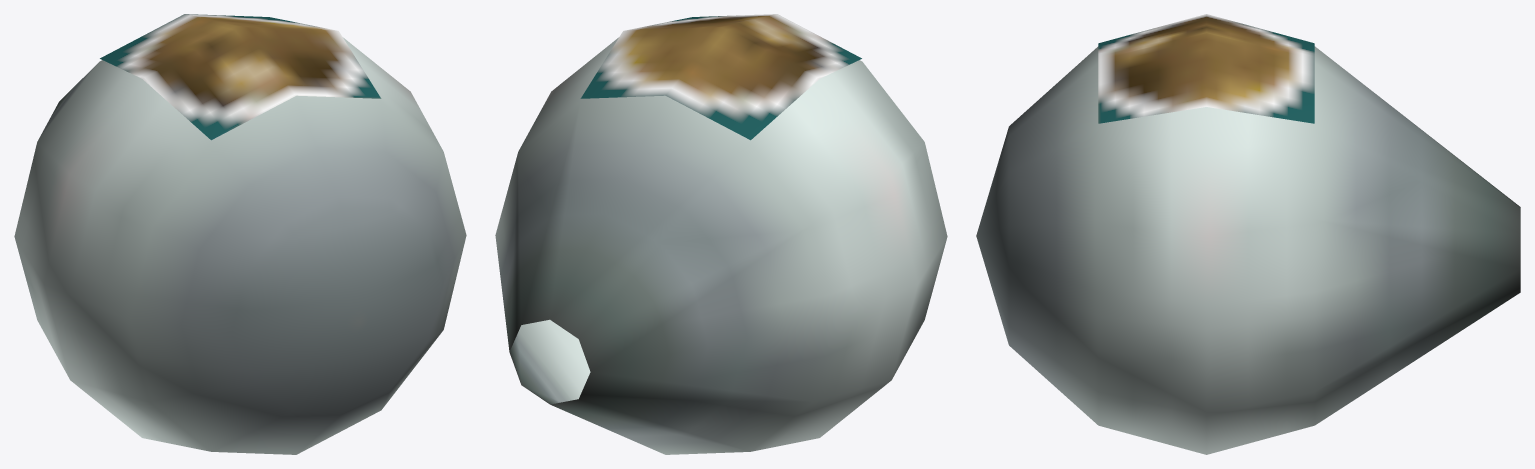
File: batch_0062.obj
The picture shows the model from 3 angles, left to right: view 1: azimuth 30°, elevation 25°; view 2: azimuth 150°, elevation 25°; view 3: azimuth 270°, elevation 25°; orthographic projection. The views are drawn at different scales.
Parts seen in each view (by area): view 1: batch_0062; view 2: batch_0062; view 3: batch_0062.
Part boxes in pixels (left/top/right/bottom): batch_0062: left=14, top=14, right=466, bottom=454; batch_0062: left=495, top=14, right=947, bottom=454; batch_0062: left=976, top=14, right=1520, bottom=454.
Bounding box in the file's own units: 31.5 × 31.73 × 39.
1 material, 1 textured.
